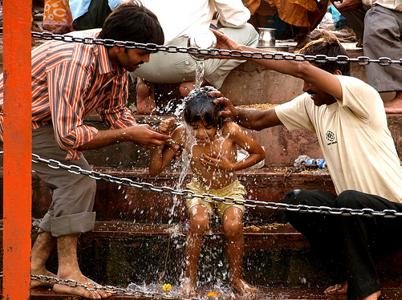person: (206, 28, 400, 300)
